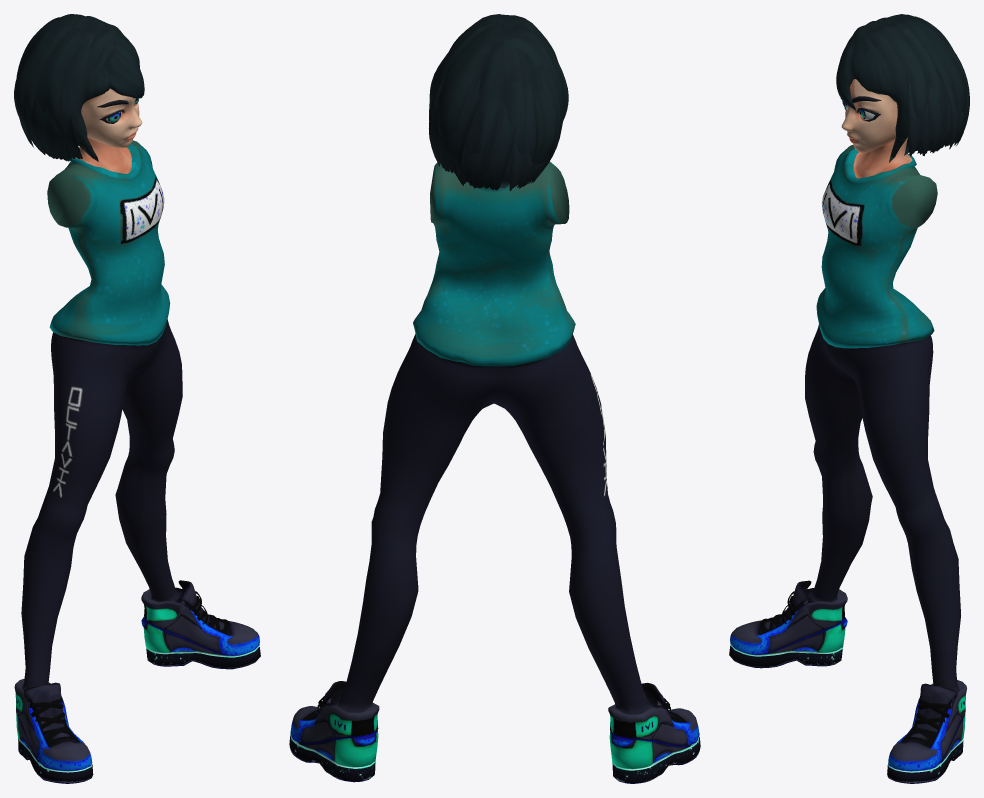
File: Octavia (Pose5 FBX).fbx
The picture shows the model from 3 angles, left to right: view 1: azimuth 30°, elevation 25°; view 2: azimuth 150°, elevation 25°; view 3: azimuth 270°, elevation 25°; orthographic projection. The views are drawn at different scales.
Visible parts, largest first — view 1: Octavia Pose5.001; view 2: Octavia Pose5.001; view 3: Octavia Pose5.001.
Boxes of the visible parts, <box> form: Octavia Pose5.001: <box>14,14,260,783</box>; Octavia Pose5.001: <box>289,14,700,783</box>; Octavia Pose5.001: <box>729,14,969,783</box>.
Size of the model in its own units: 244 by 553 by 178.
